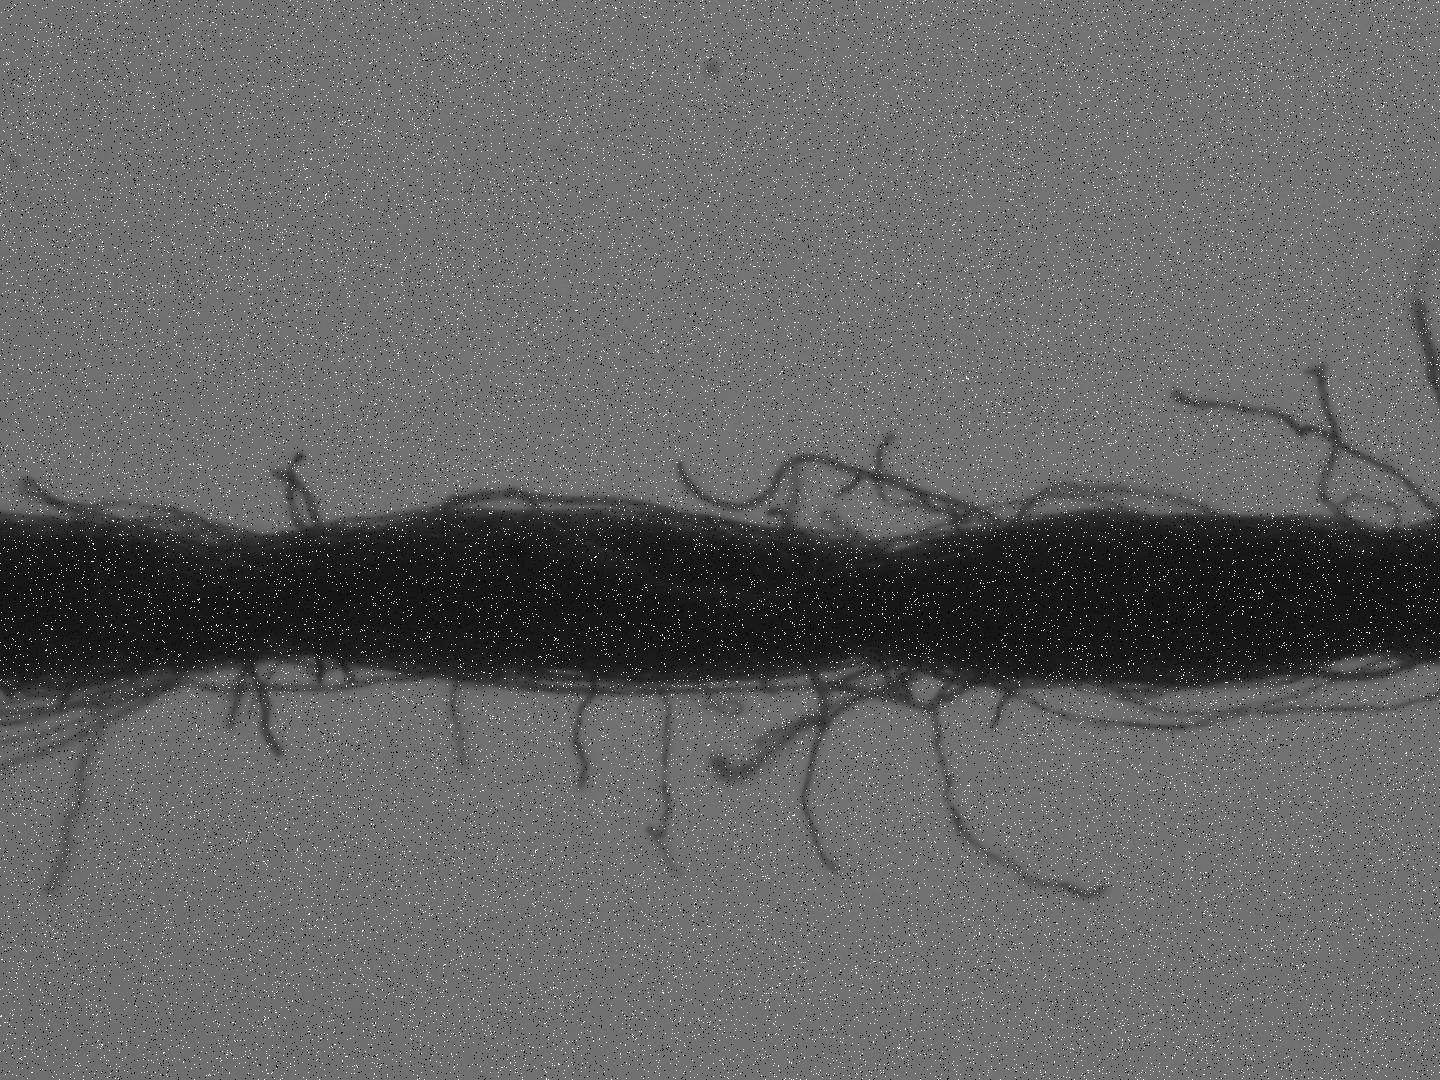loop_fiber: (495, 659, 983, 719), (886, 489, 1123, 552), (441, 488, 705, 524), (1002, 481, 1219, 525), (69, 499, 229, 548), (29, 669, 130, 703), (1301, 655, 1423, 681), (942, 664, 998, 707), (872, 655, 914, 707), (287, 652, 353, 668)
protruding_fiber: (934, 666, 1115, 898), (570, 676, 600, 793), (282, 439, 313, 540)
